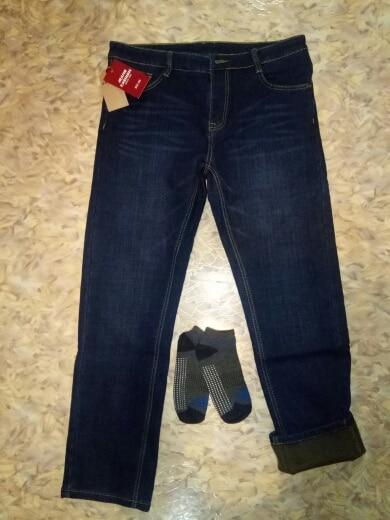jeans: (63, 30, 352, 490)
